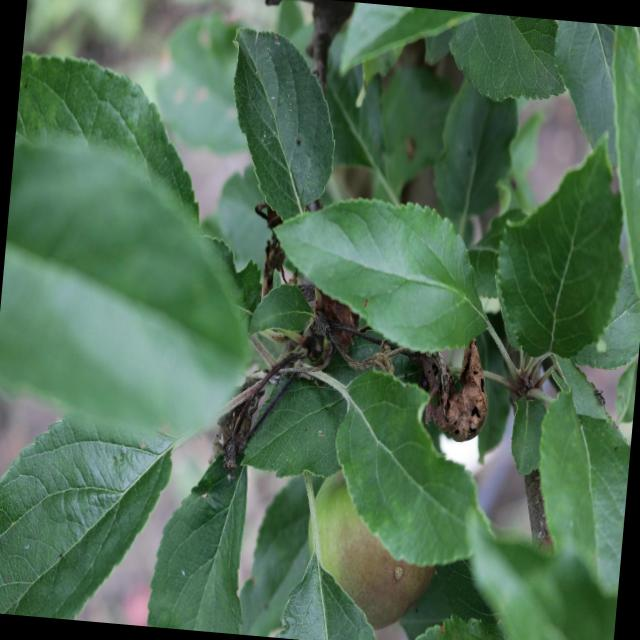-FireBlight-: (216, 289, 486, 470)
